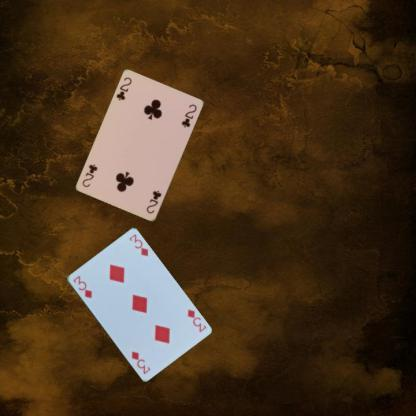2c: (114, 74, 133, 102), (144, 188, 163, 215)
3d: (184, 306, 207, 334), (70, 274, 93, 300)
